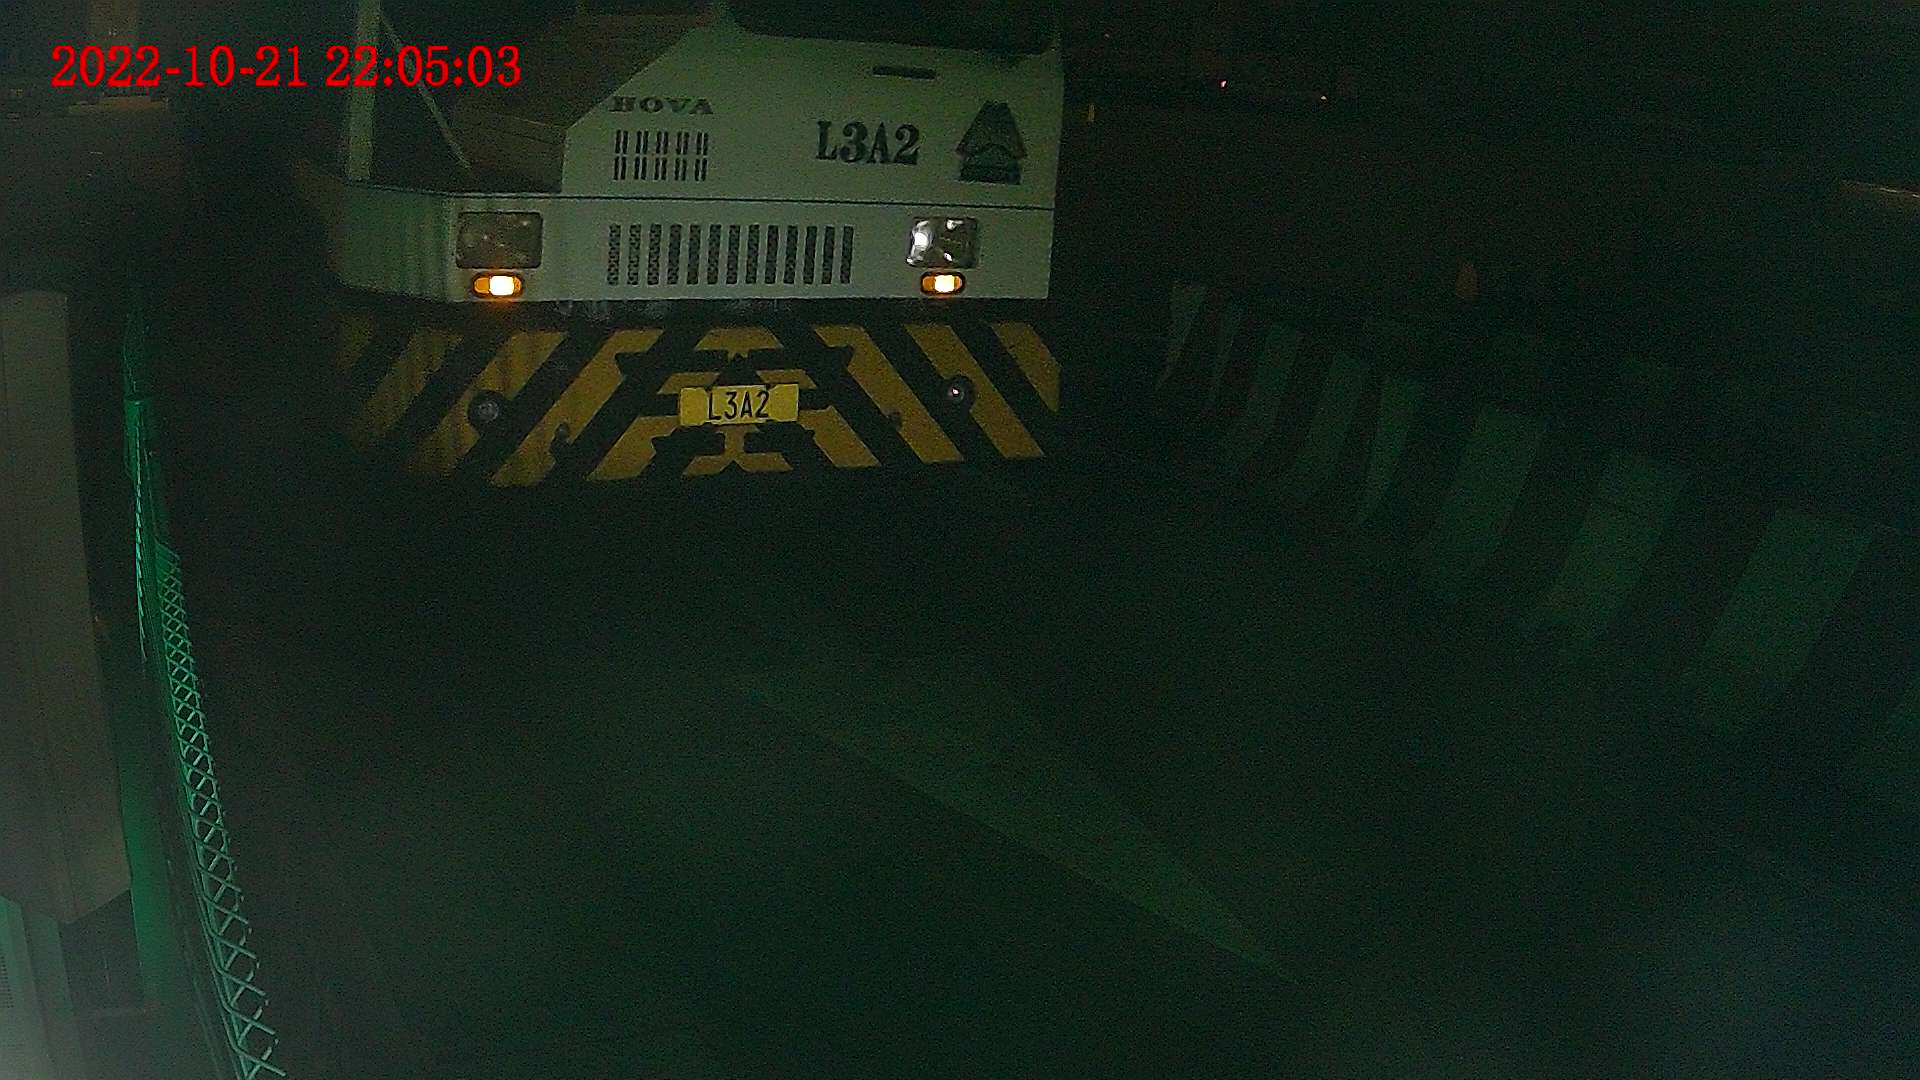head: (320, 1, 1064, 519)
plate: (680, 388, 792, 419)
